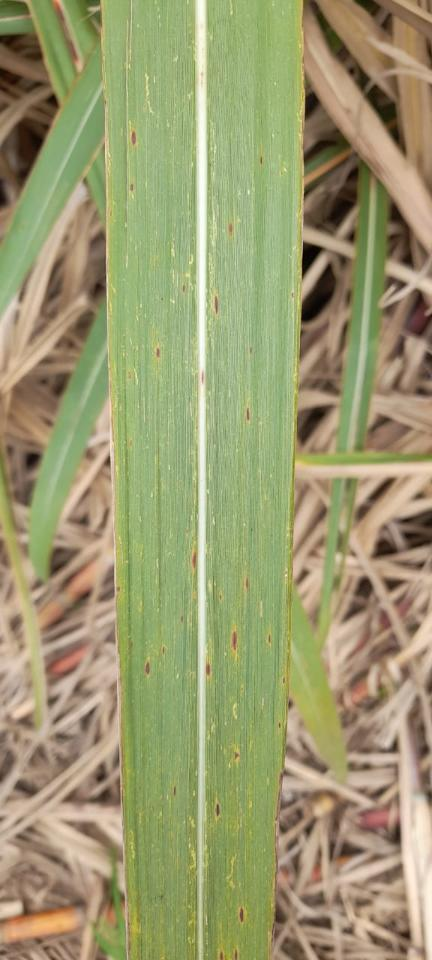RedRot: (201, 370, 204, 386)
Rust: (212, 291, 223, 320), (228, 628, 240, 654), (242, 575, 254, 595), (225, 222, 238, 239), (213, 801, 224, 820), (130, 129, 139, 152), (190, 548, 198, 573), (231, 747, 242, 765), (265, 629, 275, 648), (143, 657, 152, 678), (237, 906, 246, 924), (244, 404, 252, 423), (205, 662, 213, 677), (180, 281, 188, 296), (154, 346, 161, 361), (258, 152, 265, 167), (172, 785, 179, 798), (179, 613, 185, 626), (161, 644, 167, 657), (216, 951, 224, 959), (233, 950, 239, 959), (129, 184, 134, 193)
